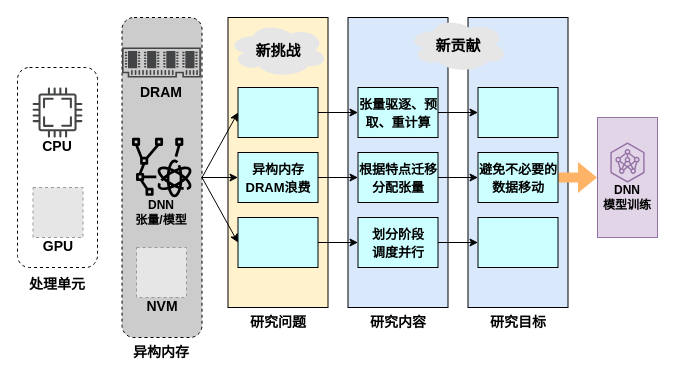
This 677x385 diagram has some shape labels left out. Grey dashed boxes stand in for pictures. The shapes that lost their labels are listed below. From the top down, each one's centre as x and y in pixels, then its label:
At point 277,112: "GPU资源 紧缺".
At point 517,112: "总体优化 显存空间".
At point 277,242: "GPU通信 带宽竞争".
At point 517,242: "最小化 通信争用".
